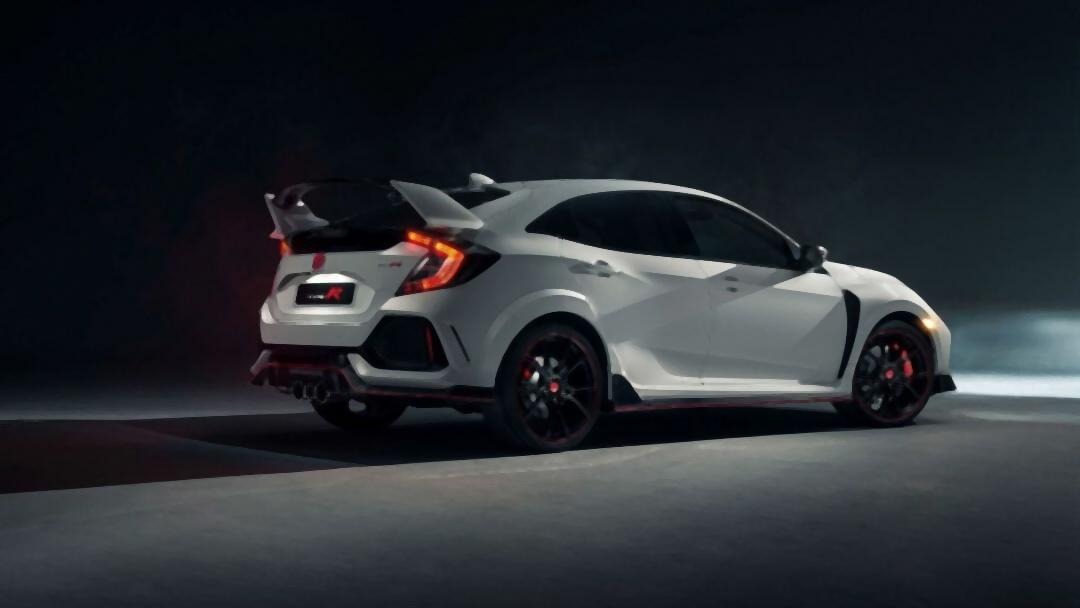Car boot: (255, 213, 431, 354)
Driver-s door - -F-R-: (680, 188, 843, 400)
Fender - -F-R-: (826, 251, 925, 393)
Fender - -R-R-: (475, 227, 616, 406)
Front bumper: (925, 306, 965, 396)
Passenger-s door - -R-R-: (560, 186, 708, 398)
Rear bumper: (242, 284, 530, 415)
Rear light - -L-: (262, 227, 299, 301)
Rear light - -R-: (390, 222, 504, 299)
Side bumper - -R-: (603, 371, 855, 413)
Side mirror - -R-: (789, 236, 831, 280)
